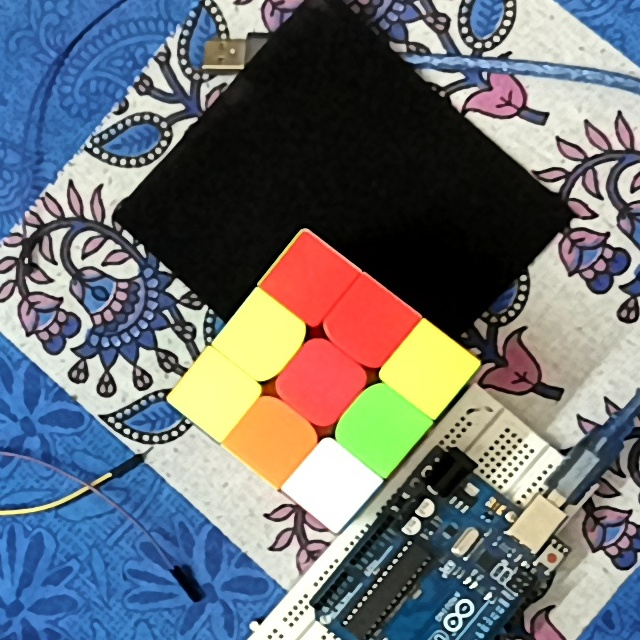tile: (356, 400, 408, 453), (342, 297, 395, 347), (246, 413, 296, 465), (296, 357, 348, 406), (307, 459, 355, 511), (407, 343, 457, 390), (191, 372, 238, 420), (237, 315, 285, 361), (286, 259, 332, 304)
